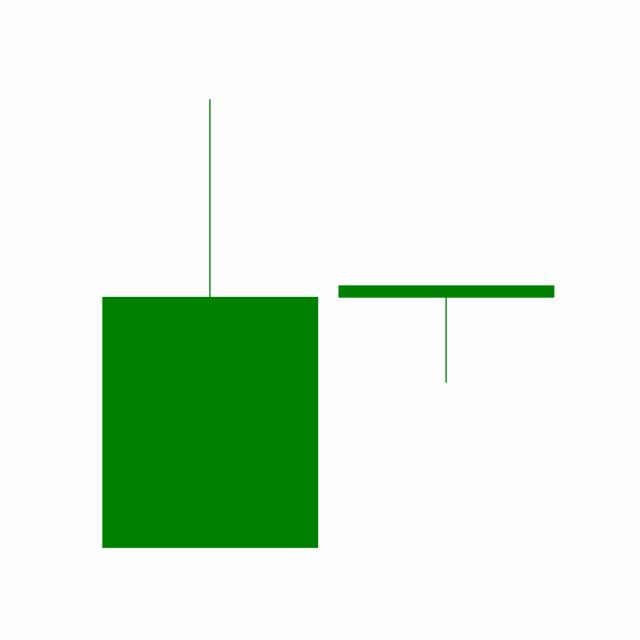Hammer: (327, 283, 565, 383)
